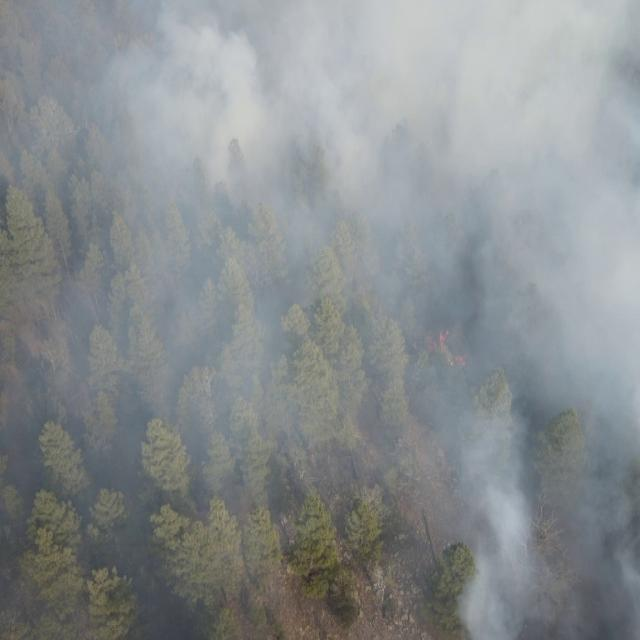fire: (412, 330, 470, 371)
smoke: (0, 0, 640, 640)
